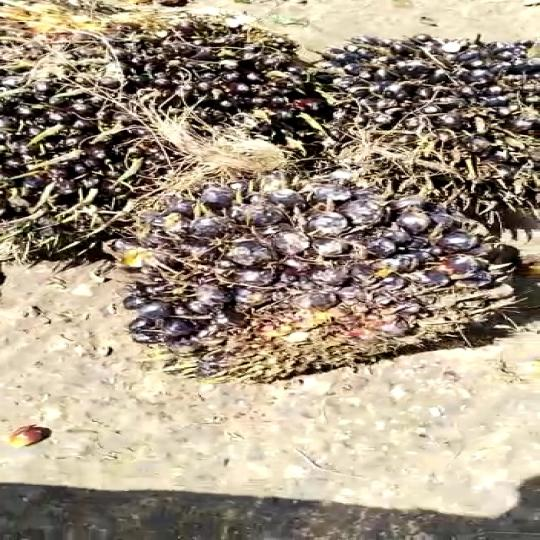mentah: (117, 175, 523, 370), (315, 39, 540, 182), (0, 76, 172, 248), (121, 21, 334, 158)
